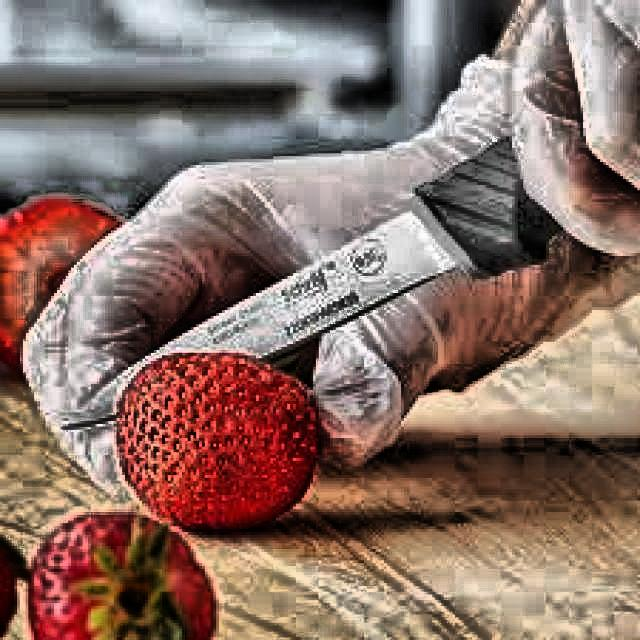knife: (56, 112, 577, 438)
